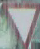Give way: (3, 0, 39, 44)
